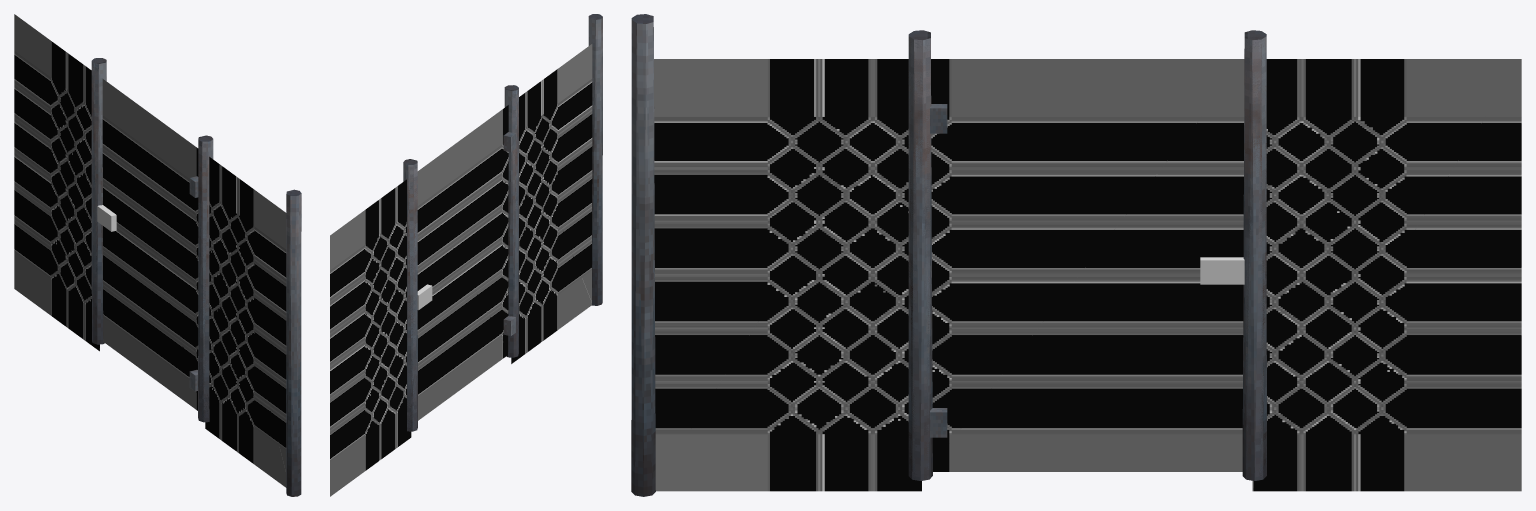
File: fence_barbed_gate.fbx
3 renders of one model, left to right at view 1: azimuth 30°, elevation 25°; view 2: azimuth 150°, elevation 25°; view 3: azimuth 270°, elevation 25°, orthographic. The views are drawn at different scales.
Visible parts, largest first — view 1: barbed_fence.002, barbed_fence.001, steel_rod, steel_rod.001, steel_rod.002, Key Lock, Cube.014; view 2: barbed_fence.002, barbed_fence.001, steel_rod, steel_rod.002, steel_rod.001, Cube.014, Key Lock; view 3: barbed_fence.002, barbed_fence.001, steel_rod, steel_rod.001, steel_rod.002, Key Lock, Cube.014.
Part boxes in pixels (left/top/right/bottom): barbed_fence.002: left=14, top=14, right=286, bottom=487; barbed_fence.001: left=102, top=79, right=198, bottom=410; steel_rod: left=286, top=189, right=301, bottom=496; steel_rod.001: left=198, top=135, right=213, bottom=422; steel_rod.002: left=91, top=58, right=106, bottom=344; Key Lock: left=97, top=205, right=116, bottom=231; Cube.014: left=189, top=176, right=198, bottom=391; barbed_fence.002: left=330, top=44, right=592, bottom=496; barbed_fence.001: left=417, top=105, right=508, bottom=420; steel_rod: left=588, top=14, right=602, bottom=305; steel_rod.002: left=403, top=159, right=417, bottom=431; steel_rod.001: left=504, top=85, right=518, bottom=357; Cube.014: left=503, top=132, right=515, bottom=336; Key Lock: left=417, top=284, right=432, bottom=310; barbed_fence.002: left=654, top=59, right=1521, bottom=491; barbed_fence.001: left=931, top=59, right=1244, bottom=471; steel_rod: left=631, top=14, right=655, bottom=496; steel_rod.001: left=908, top=30, right=932, bottom=480; steel_rod.002: left=1242, top=30, right=1266, bottom=480; Key Lock: left=1200, top=257, right=1244, bottom=284; Cube.014: left=930, top=104, right=947, bottom=437.
Bounding box in the file's own units: 20.58 × 418 × 713.
